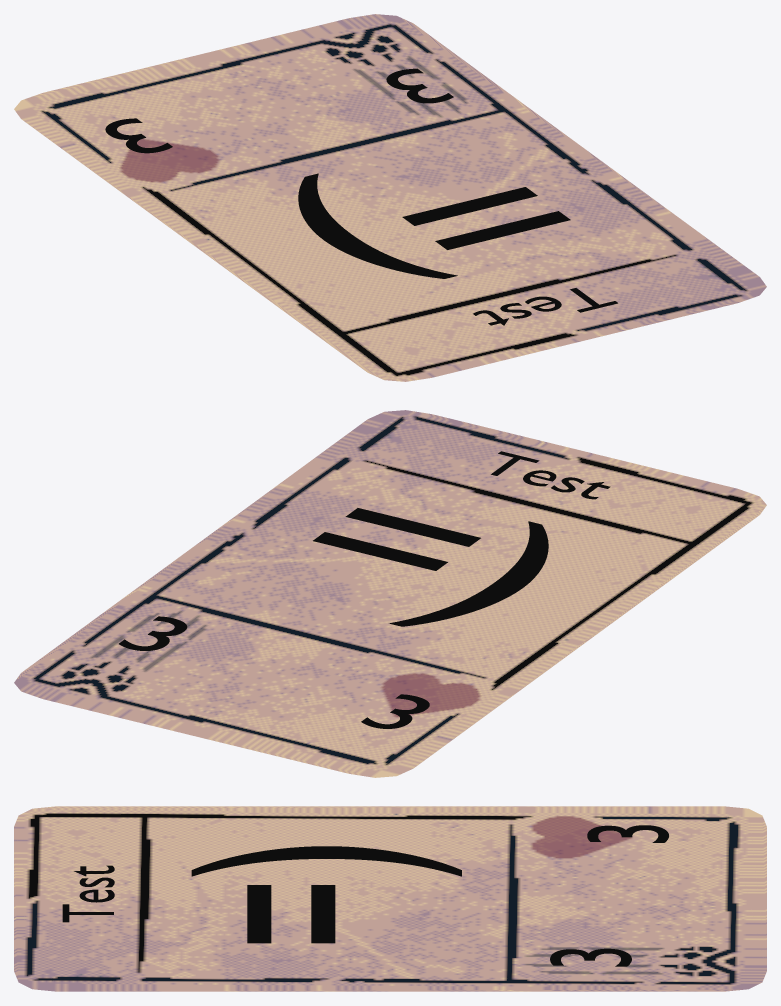
Rendered from card_merge.glb.
3 views of the same model, one above another, from view 1: azimuth 30°, elevation 25°; view 2: azimuth 150°, elevation 25°; view 3: azimuth 270°, elevation 25° (orthographic). The views are drawn at different scales.
Parts seen in each view (by area): view 1: TestCard; view 2: TestCard; view 3: TestCard.
Part boxes in pixels (<box>): TestCard: <box>14,14,766,381</box>; TestCard: <box>14,410,766,777</box>; TestCard: <box>14,806,766,991</box>.
Size of what is drawn, in the model's own units: 44.93 by 0.6623 by 77.22.
4 materials, 1 textured.
